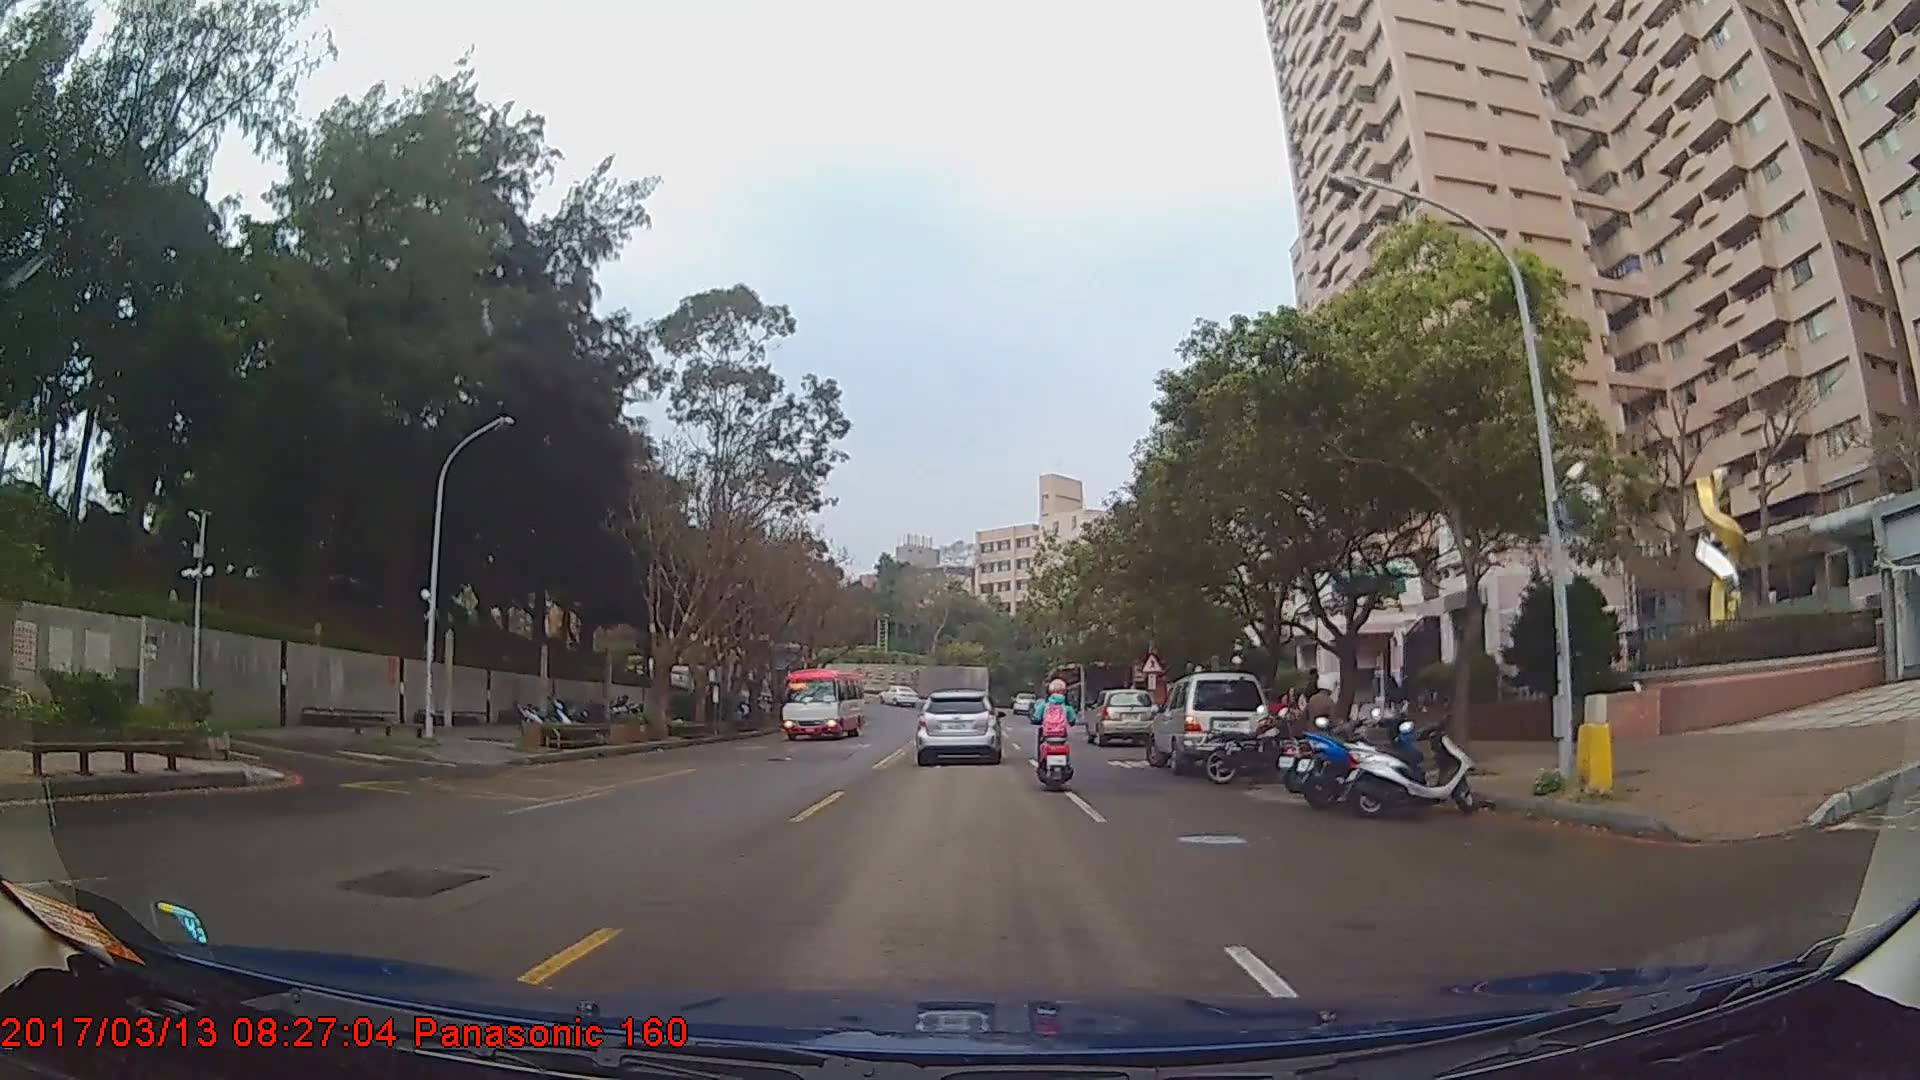rider: (1289, 668, 1353, 784), (1033, 670, 1085, 795)
vehicle: (1145, 671, 1270, 774), (914, 686, 1001, 763), (779, 664, 865, 737), (1086, 686, 1156, 743), (875, 682, 921, 707)
